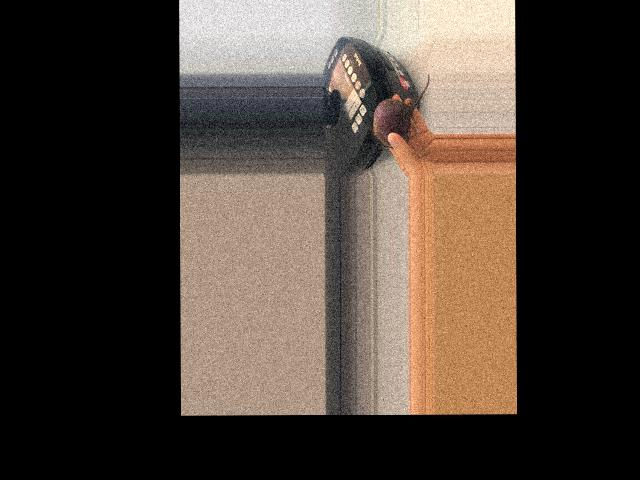beet: (370, 73, 429, 147)
